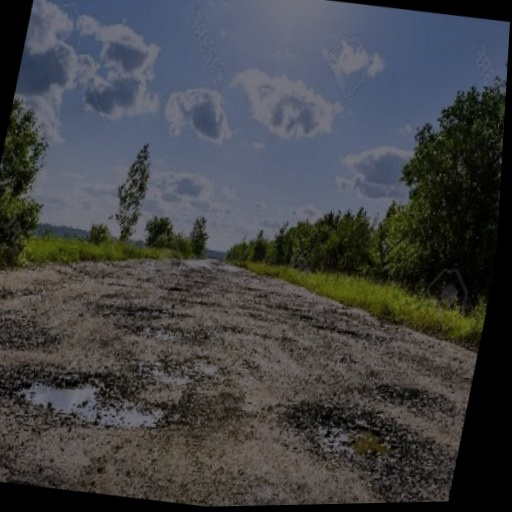pothole: (0, 348, 189, 441), (281, 391, 434, 483), (369, 374, 439, 417)
